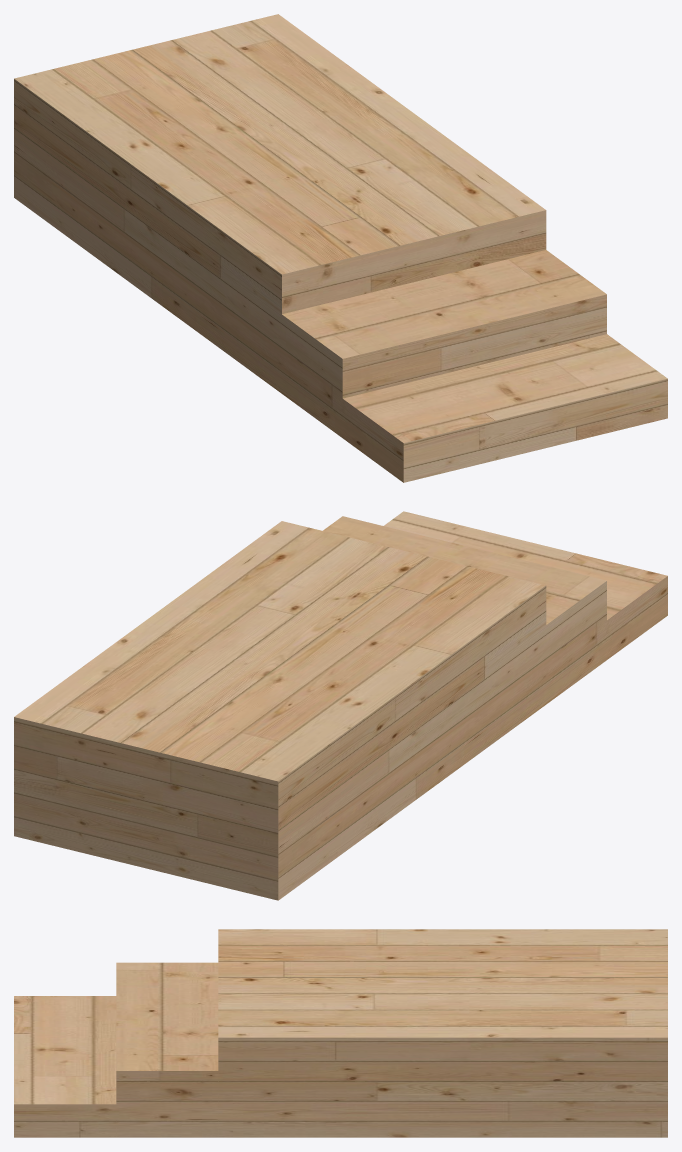
Rendered from Wooden Stairs.fbx.
3 views of the same model, one above another, from view 1: azimuth 30°, elevation 25°; view 2: azimuth 150°, elevation 25°; view 3: azimuth 270°, elevation 25° (orthographic). The views are drawn at different scales.
Visible parts, largest first — view 1: Wooden Stairs; view 2: Wooden Stairs; view 3: Wooden Stairs.
Part boxes in pixels (<box>): Wooden Stairs: <box>14,14,667,482</box>; Wooden Stairs: <box>14,511,667,900</box>; Wooden Stairs: <box>14,929,667,1137</box>.
Size of the model in its own units: 157 by 67.5 by 400.
